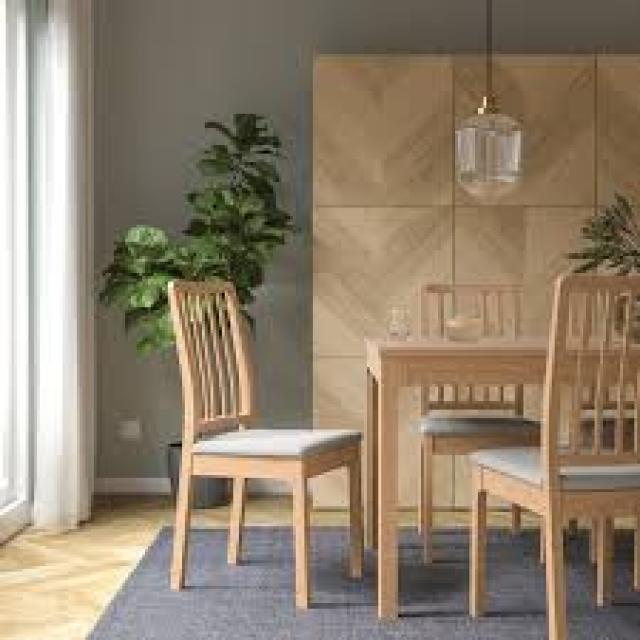chair: (90, 261, 393, 640), (431, 264, 639, 640), (390, 272, 579, 595)
